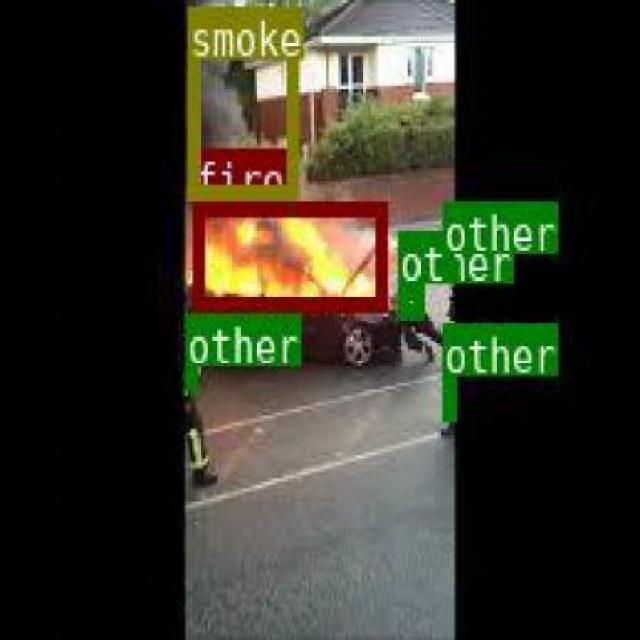Fire: (190, 201, 384, 310)
Smoke: (187, 3, 296, 196)
